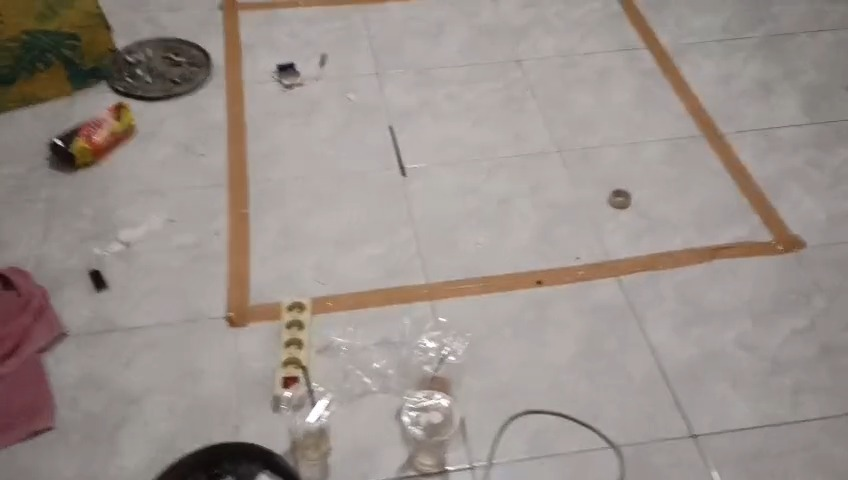floor marking: (315, 0, 805, 312), (224, 0, 280, 326)
